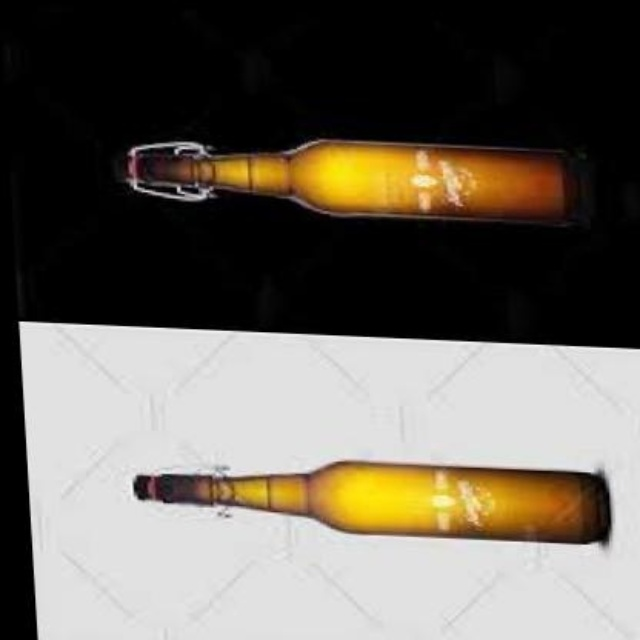trash: (126, 140, 588, 223), (134, 462, 609, 542)
